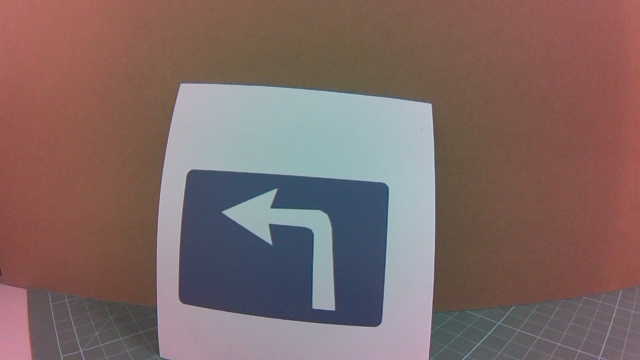left: (189, 155, 374, 323)
